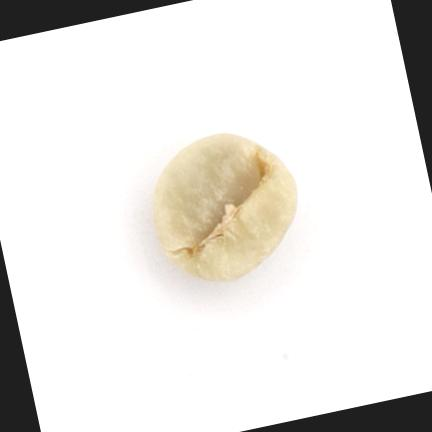husk: (154, 133, 298, 281)
